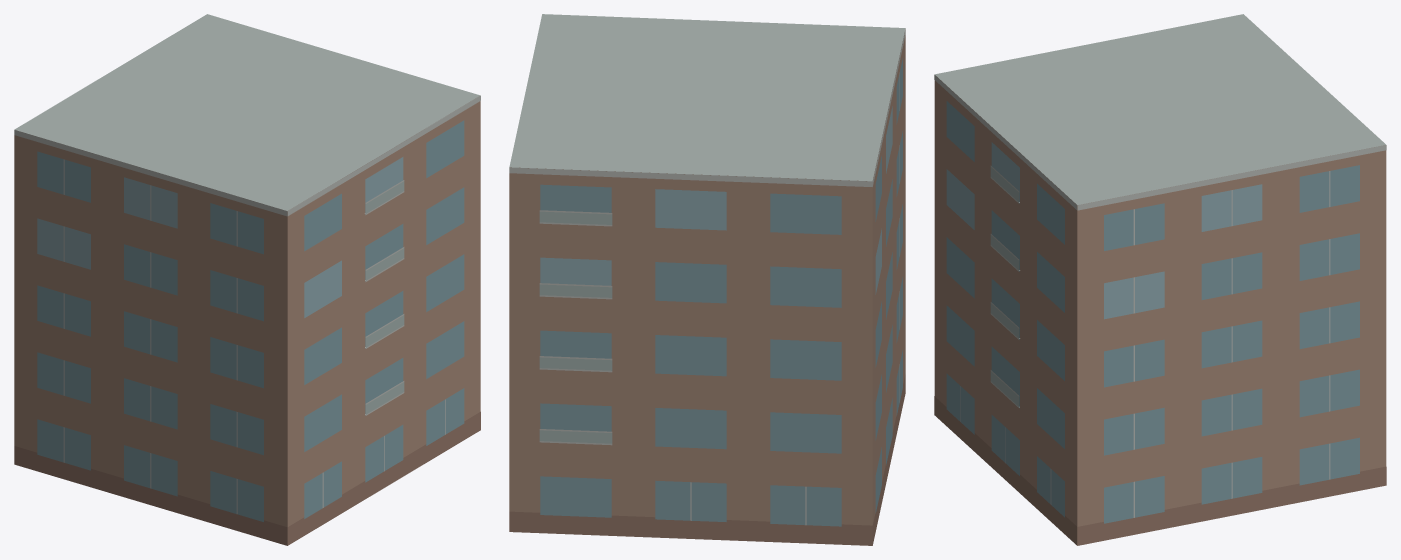
The model's file is residential-e588f904-2fe6-4457-b3f9-3e2587299289.glb.
3 renders of one model, left to right at view 1: azimuth 30°, elevation 25°; view 2: azimuth 150°, elevation 25°; view 3: azimuth 270°, elevation 25°, orthographic. The views are drawn at different scales.
Visible parts, largest first — view 1: residential-e588f904-2fe6-4457-b3f9-3e2587299289.tmp; view 2: residential-e588f904-2fe6-4457-b3f9-3e2587299289.tmp; view 3: residential-e588f904-2fe6-4457-b3f9-3e2587299289.tmp.
Boxes of the visible parts, bbox=[...] form: residential-e588f904-2fe6-4457-b3f9-3e2587299289.tmp: bbox=[14, 14, 480, 545]; residential-e588f904-2fe6-4457-b3f9-3e2587299289.tmp: bbox=[509, 14, 905, 545]; residential-e588f904-2fe6-4457-b3f9-3e2587299289.tmp: bbox=[934, 14, 1386, 545].
Bounding box in the file's own units: 18.36 × 15.25 × 18.35.
